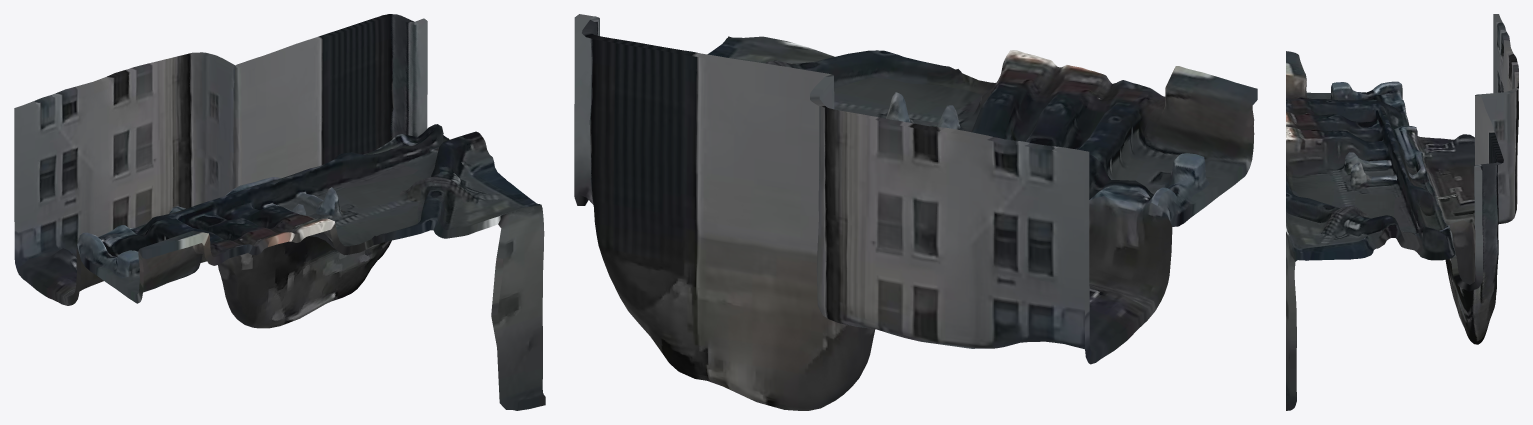
File: z20-167758-405236-h0-yup-uvflip-v3-world.glb
The picture shows the model from 3 angles, left to right: view 1: azimuth 30°, elevation 25°; view 2: azimuth 150°, elevation 25°; view 3: azimuth 270°, elevation 25°; orthographic projection. The views are drawn at different scales.
Size of the model in its own units: 30.16 by 21.48 by 18.88.
1 material, 1 textured.
